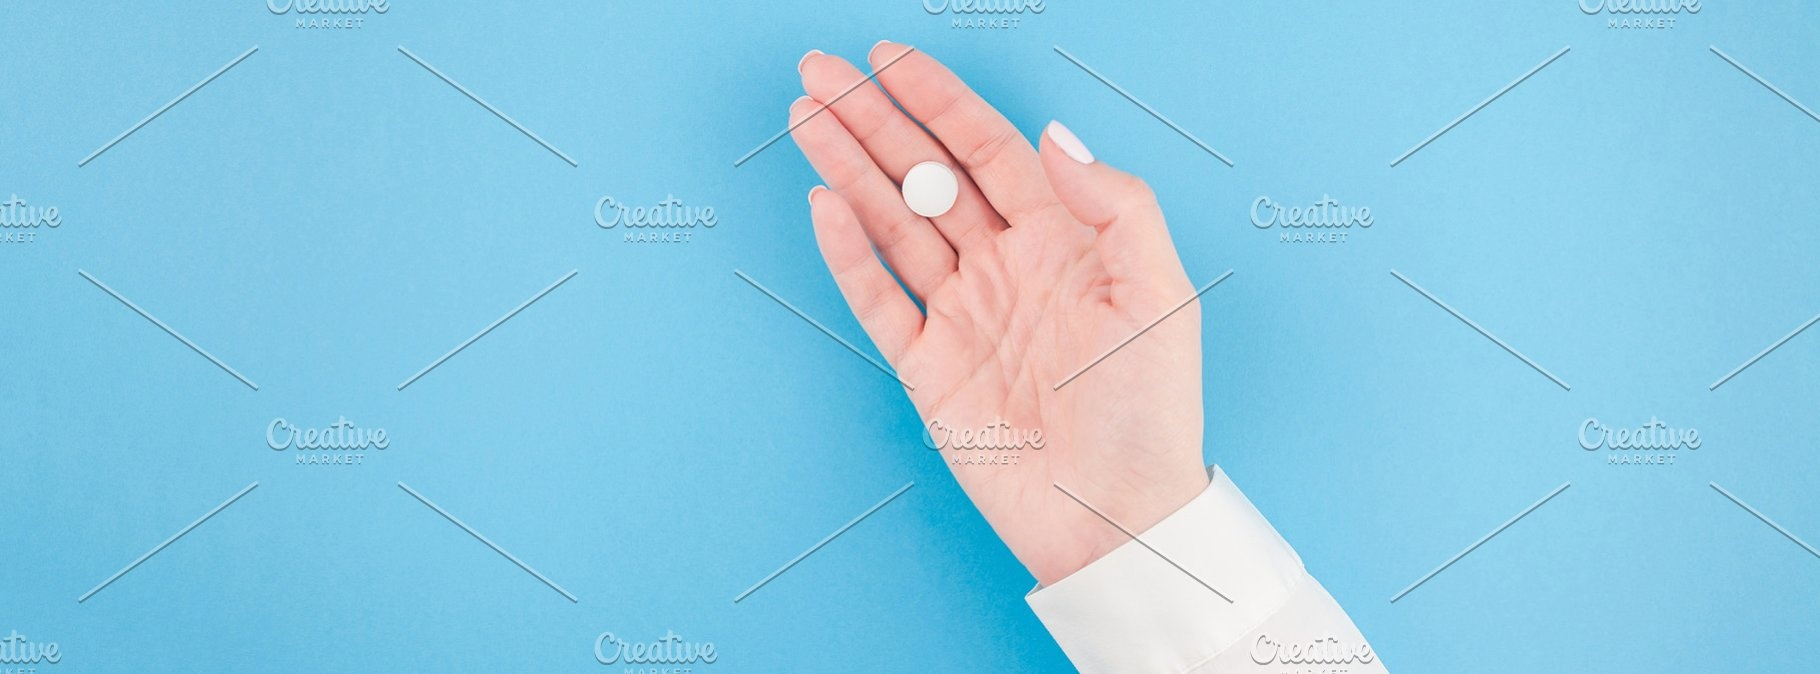pills: (903, 154, 969, 234)
